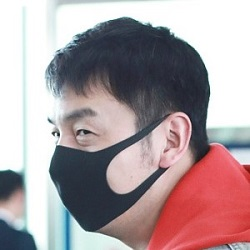mask: (40, 110, 160, 234)
